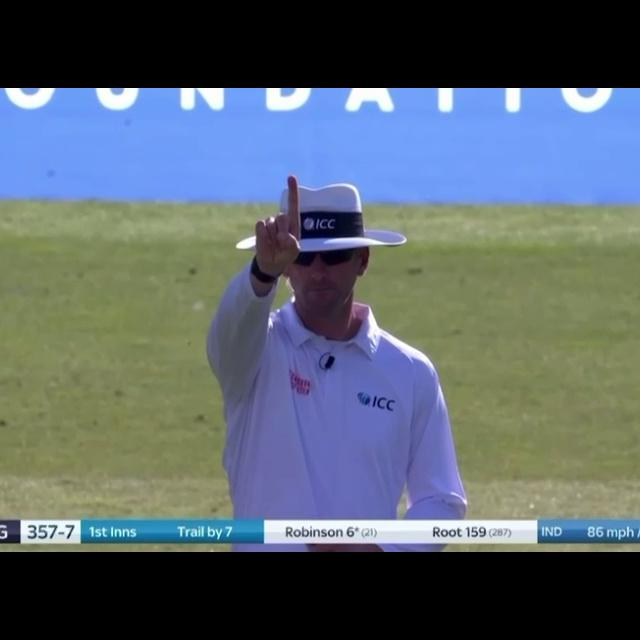umpire: (206, 157, 476, 552)
